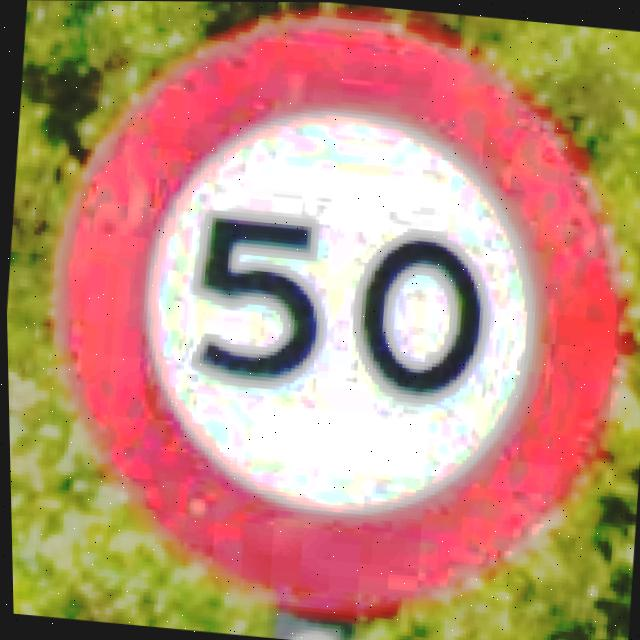max50: (12, 0, 640, 640)
